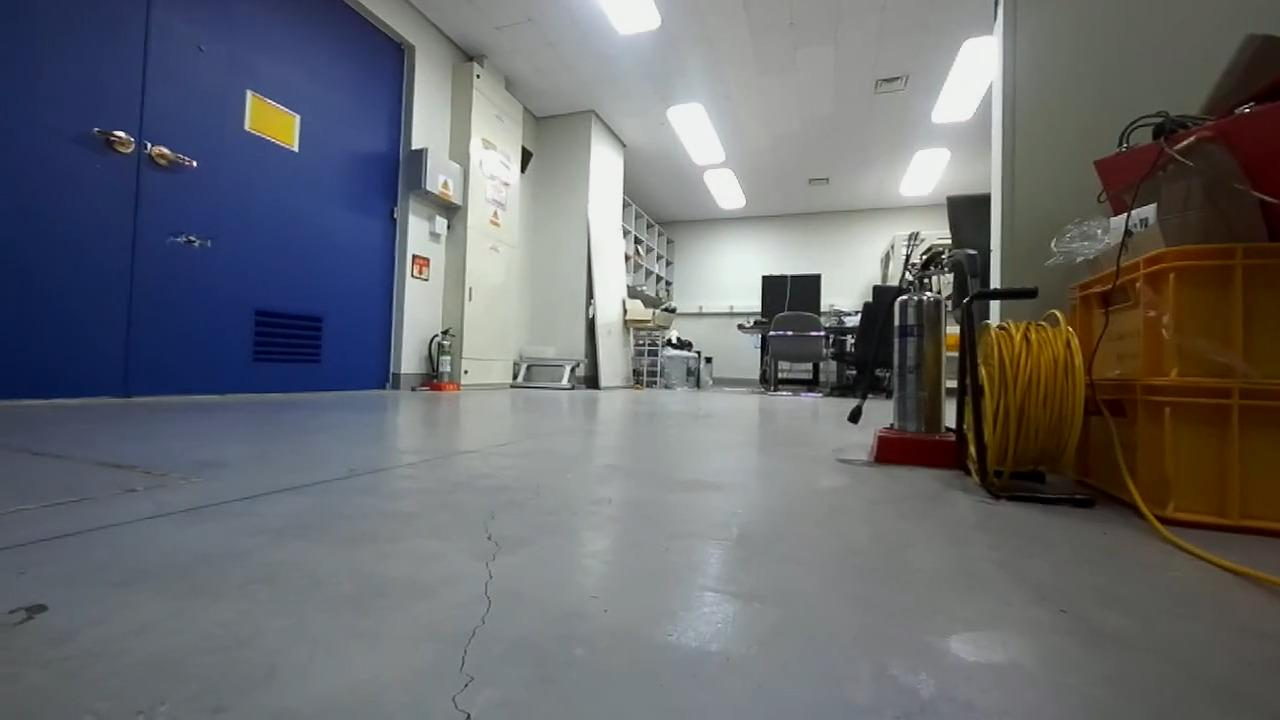crazyflie: (161, 228, 217, 251)
